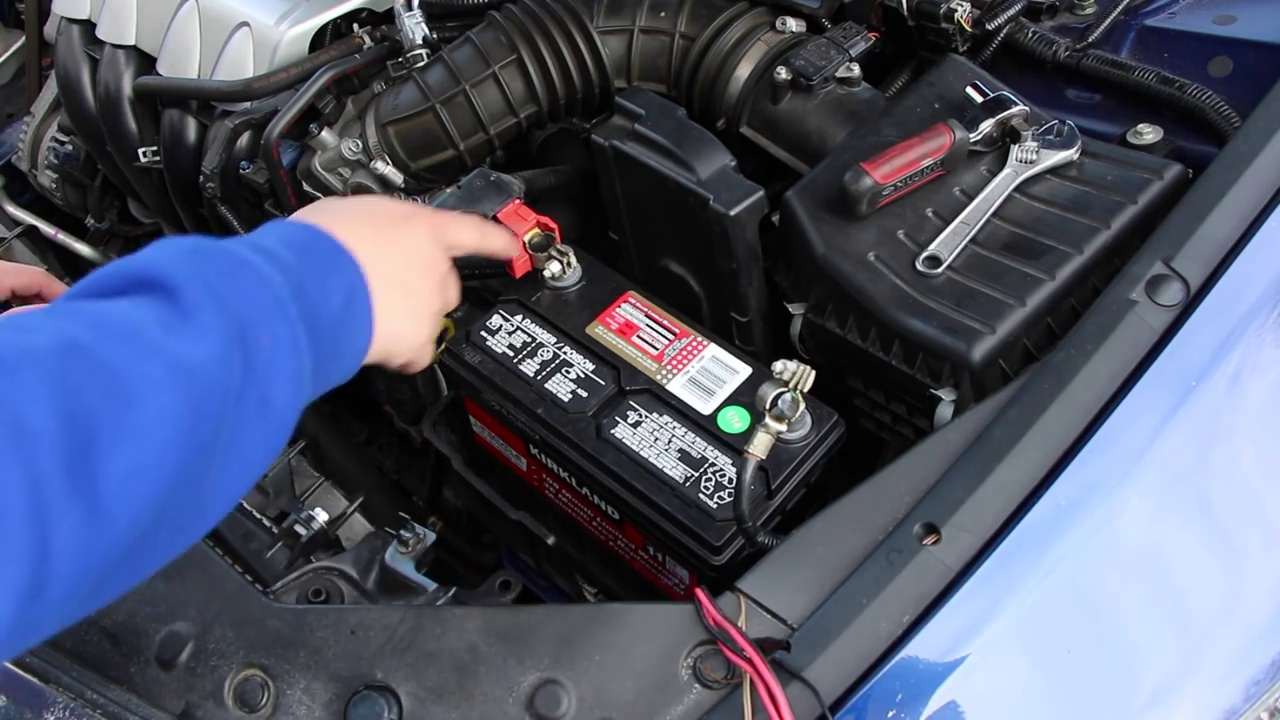battery: (431, 221, 846, 590)
neg_disconnected: (709, 347, 832, 495)
pos_connected: (450, 164, 585, 306)
pos_touched: (391, 162, 576, 336)
